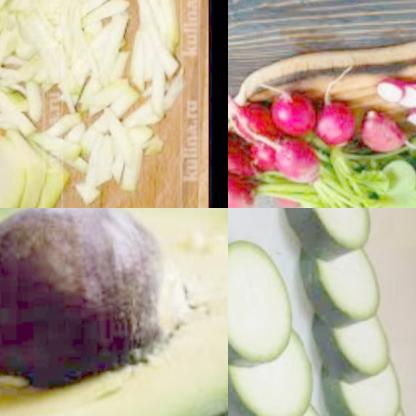avocado: (0, 208, 228, 416)
rediska: (228, 104, 284, 180), (376, 55, 416, 133), (271, 85, 321, 139), (273, 138, 326, 186), (315, 100, 358, 152), (361, 109, 406, 158), (228, 131, 265, 185), (228, 176, 260, 208)
vegetable marrow: (0, 0, 161, 194), (228, 230, 297, 372), (228, 325, 318, 416), (303, 241, 386, 329), (320, 300, 394, 386), (283, 208, 390, 266), (329, 355, 405, 416)
